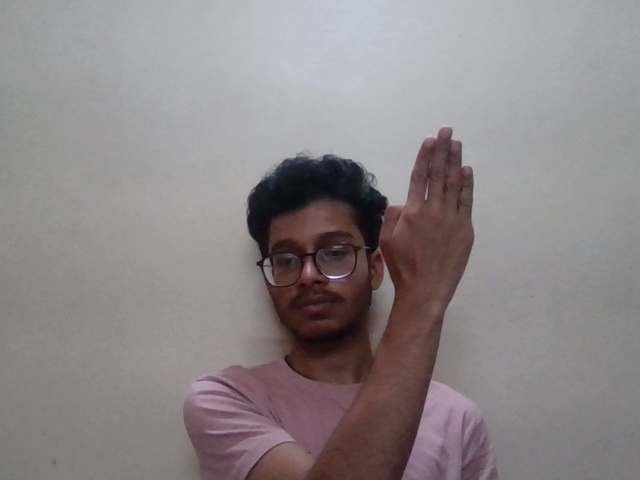good-bye: (377, 126, 488, 320)
